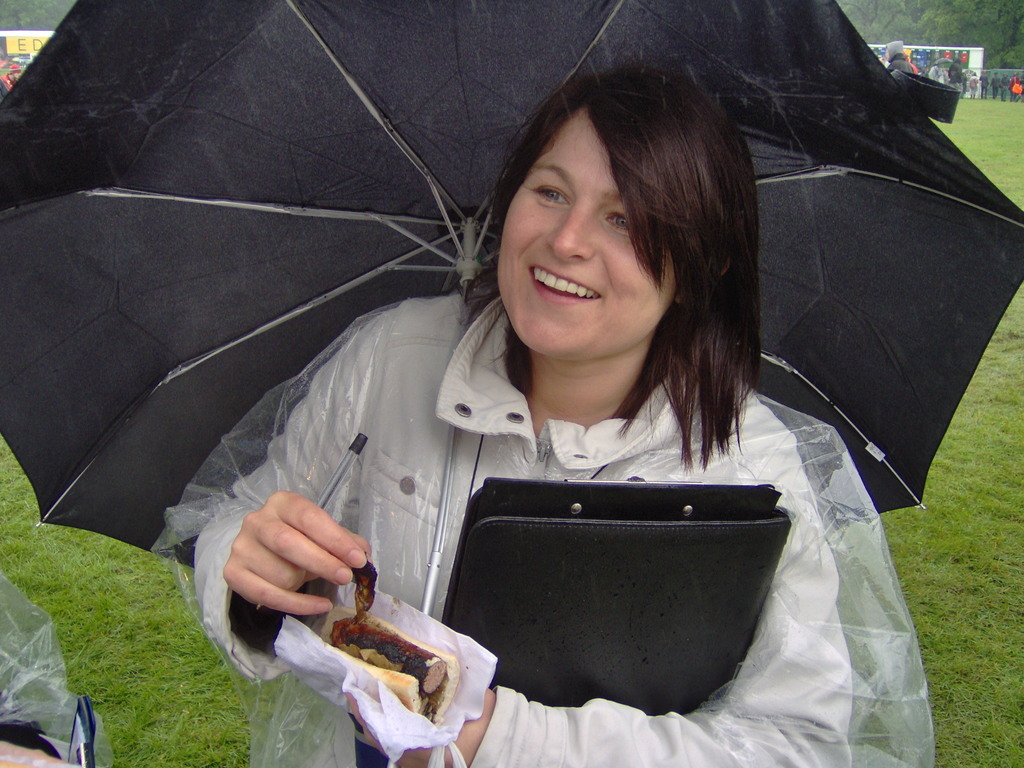hot_dog: (309, 593, 471, 751)
